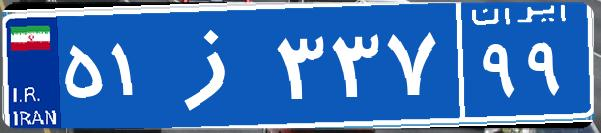1: (110, 28, 158, 105)
3: (273, 28, 330, 110), (330, 28, 385, 110)
5: (57, 26, 110, 107)
7: (385, 28, 445, 110)
9: (475, 38, 525, 113), (525, 38, 570, 115)
ز: (158, 15, 273, 115)
